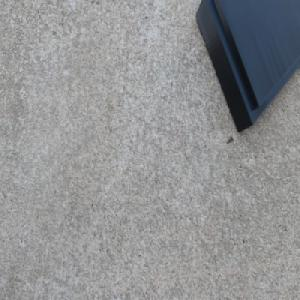PlasticPart: (195, 0, 300, 134)
